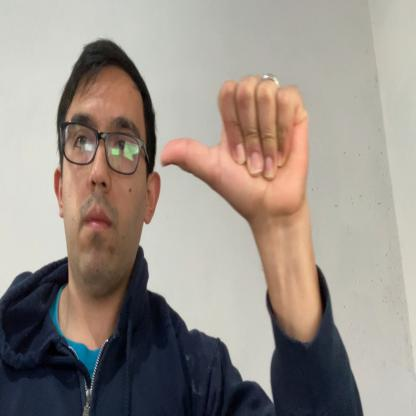A: (160, 74, 310, 218)
